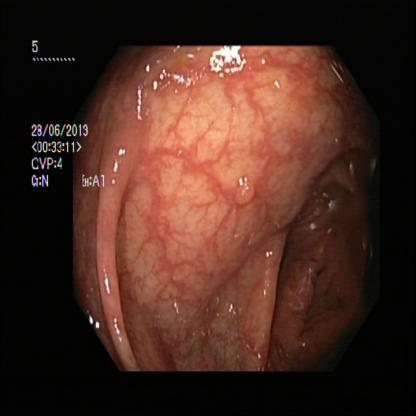Labels: (26, 31, 112, 193)
Polyps: (212, 153, 276, 221)
